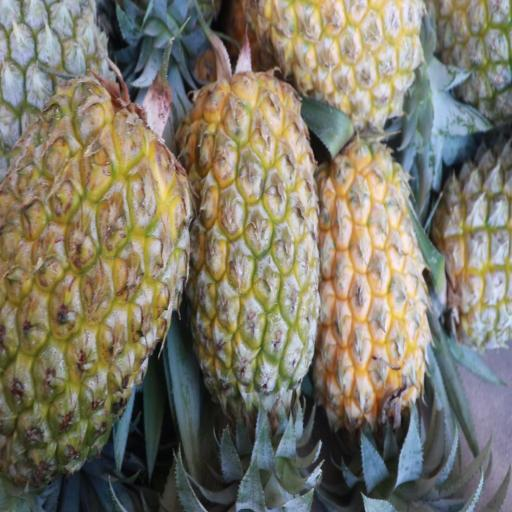Pineapple - v8 v1: (6, 95, 186, 491), (188, 80, 318, 403), (317, 140, 431, 428), (252, 0, 427, 129)
